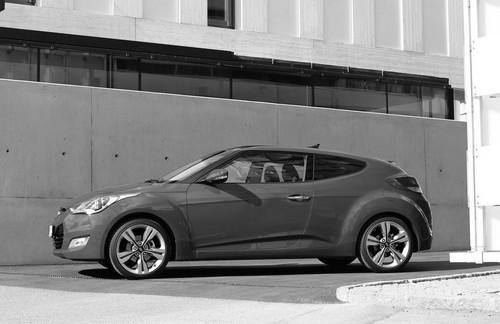car: (48, 144, 437, 283)
